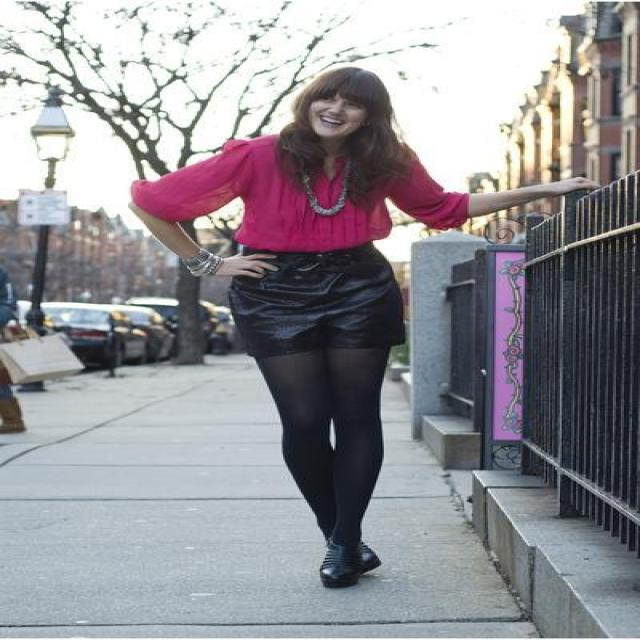shirt: (130, 143, 478, 251)
shoe: (320, 550, 381, 588)
skirt: (226, 241, 402, 360)
